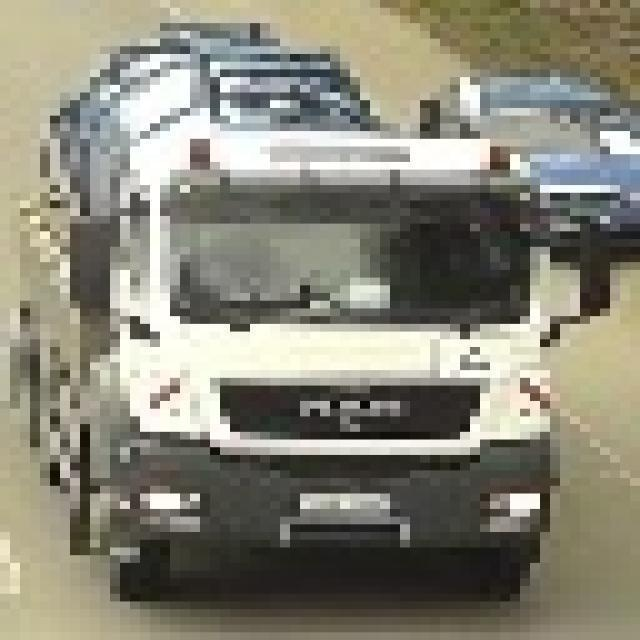Car: (408, 48, 640, 252)
Truck: (0, 8, 610, 617)
